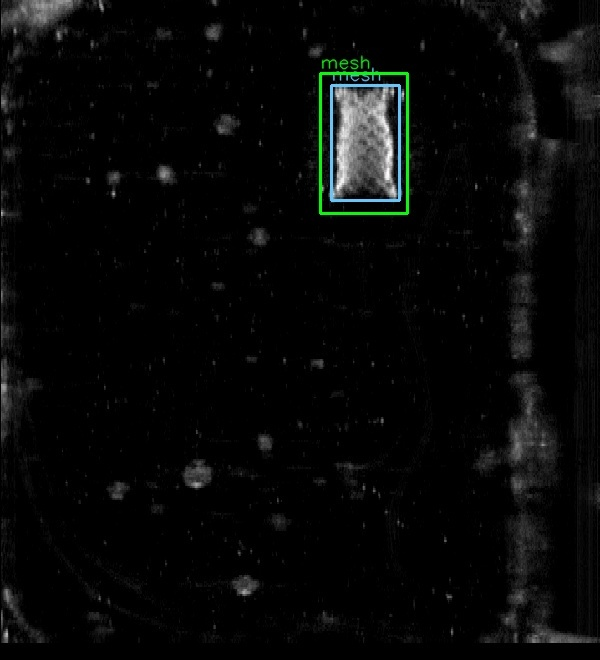mesh: (331, 85, 399, 200)
